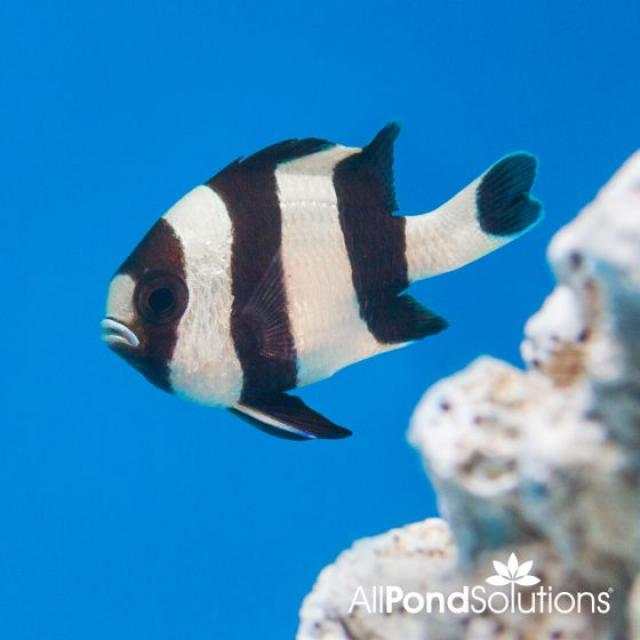ThreeStripedDamselfish: (99, 122, 545, 443)
